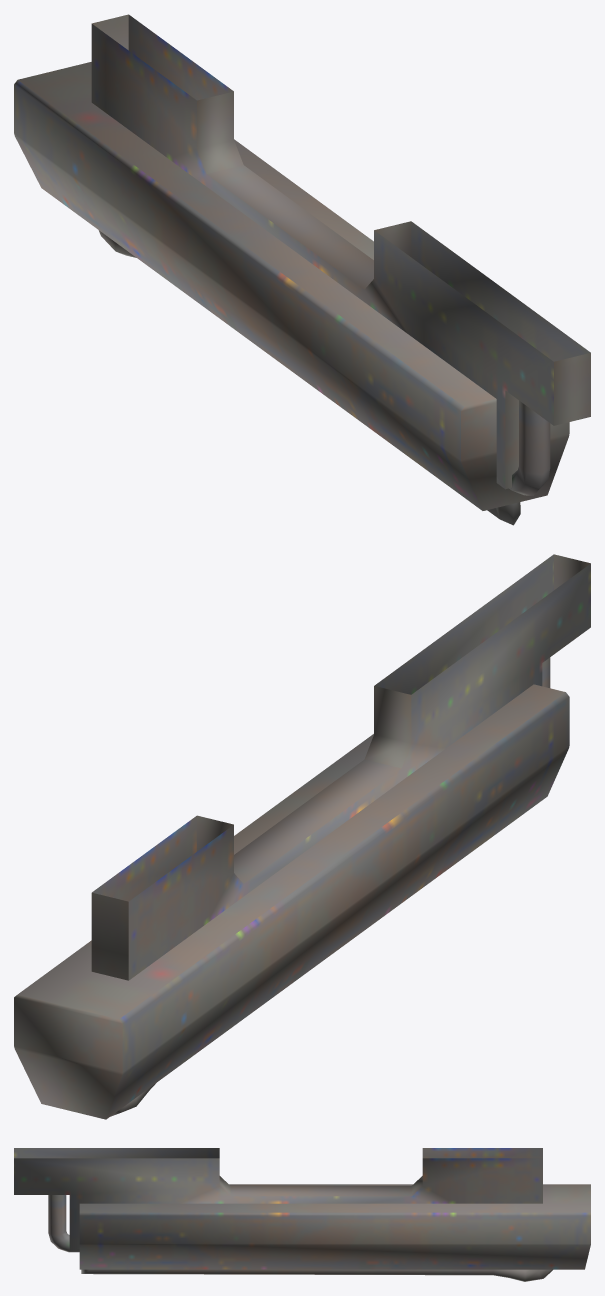
The model's file is acc4.obj.
3 renders of one model, top to bottom at view 1: azimuth 30°, elevation 25°; view 2: azimuth 150°, elevation 25°; view 3: azimuth 270°, elevation 25°, orthographic. The views are drawn at different scales.
Parts seen in each view (by area): view 1: acc4; view 2: acc4; view 3: acc4.
Boxes of the visible parts, x1,y1,x2,y2 form: acc4: (14, 14, 590, 525); acc4: (14, 554, 590, 1119); acc4: (14, 1148, 590, 1281).
Bounding box in the file's own units: 3.84 × 7.58 × 30.79.
